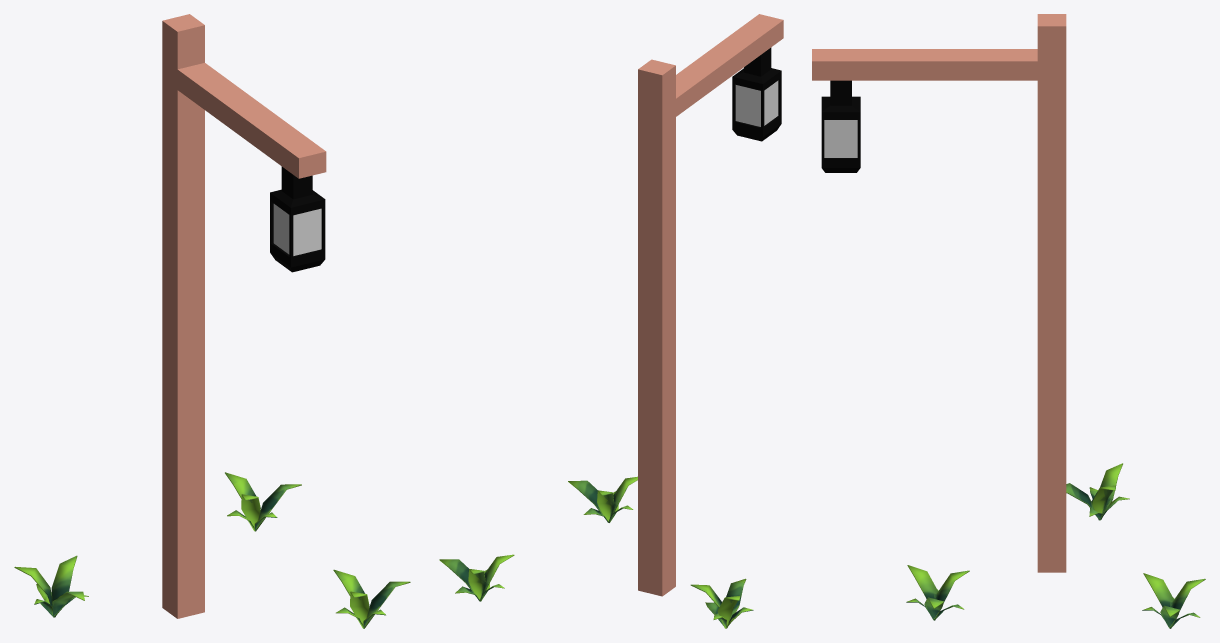
The model's file is lampu.fbx.
The picture shows the model from 3 angles, left to right: view 1: azimuth 30°, elevation 25°; view 2: azimuth 150°, elevation 25°; view 3: azimuth 270°, elevation 25°; orthographic projection. The views are drawn at different scales.
Visible parts, largest first — view 1: grass.002; view 2: grass.002; view 3: grass.002.
Boxes of the visible parts, left/top/right/bottom form: grass.002: left=14, top=14, right=410, bottom=628; grass.002: left=439, top=14, right=783, bottom=628; grass.002: left=812, top=14, right=1205, bottom=628.
Size of the model in its own units: 111 by 200 by 130.
